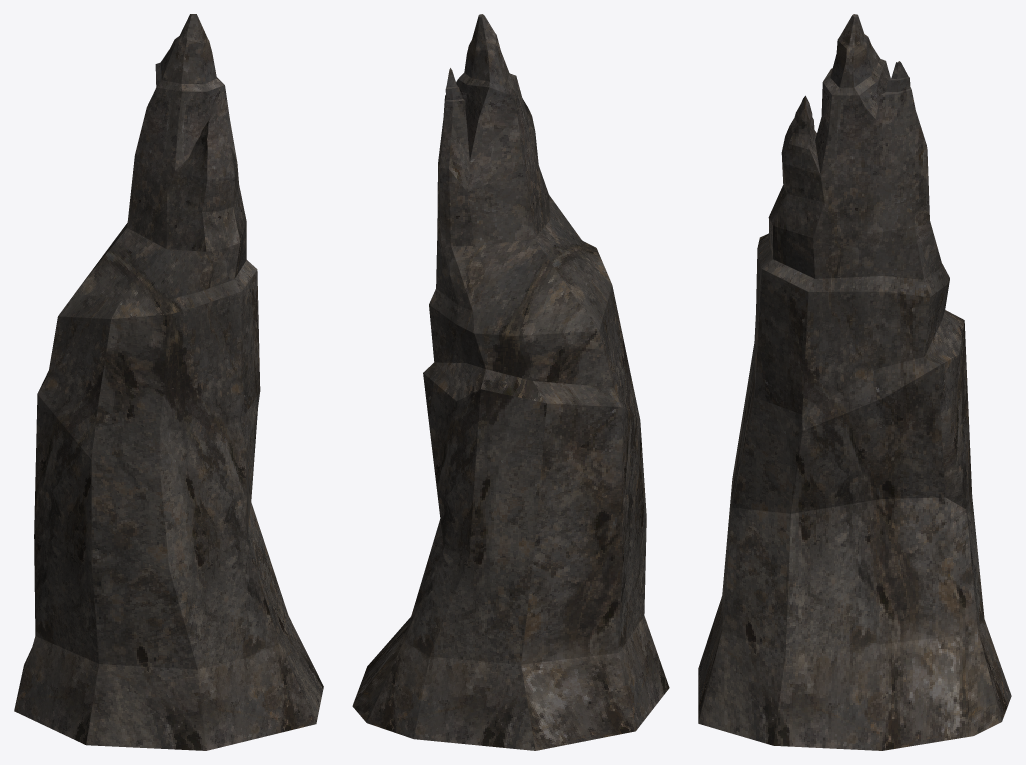
Rendered from big_rock.glb.
3 views of the same model, side by side, from view 1: azimuth 30°, elevation 25°; view 2: azimuth 150°, elevation 25°; view 3: azimuth 270°, elevation 25° (orthographic). The views are drawn at different scales.
Parts seen in each view (by area): view 1: big_rock-col; view 2: big_rock-col; view 3: big_rock-col.
Boxes of the visible parts, <box> form: big_rock-col: <box>14,14,323,750</box>; big_rock-col: <box>352,14,669,750</box>; big_rock-col: <box>698,14,1011,750</box>.
Bounding box in the file's own units: 146 × 348 × 144.
1 material, 1 textured.
